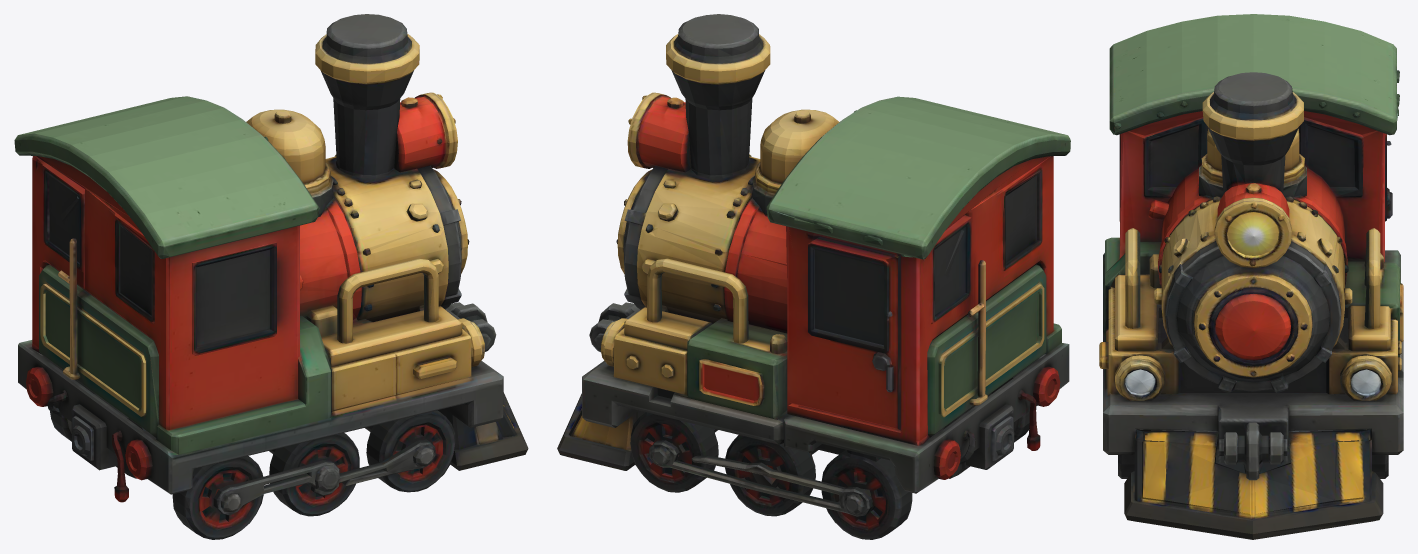
Rendered from train.glb.
The picture shows the model from 3 angles, left to right: view 1: azimuth 30°, elevation 25°; view 2: azimuth 150°, elevation 25°; view 3: azimuth 270°, elevation 25°; orthographic projection. The views are drawn at different scales.
Visible parts, largest first — view 1: tripo_node_435d09d5-98f2-4fdf-88cc-68d79c8366c2; view 2: tripo_node_435d09d5-98f2-4fdf-88cc-68d79c8366c2; view 3: tripo_node_435d09d5-98f2-4fdf-88cc-68d79c8366c2.
Boxes of the visible parts, x1,y1,x2,y2 form: tripo_node_435d09d5-98f2-4fdf-88cc-68d79c8366c2: [14, 14, 528, 539]; tripo_node_435d09d5-98f2-4fdf-88cc-68d79c8366c2: [557, 14, 1070, 539]; tripo_node_435d09d5-98f2-4fdf-88cc-68d79c8366c2: [1099, 14, 1403, 539].
Bounding box in the file's own units: 4.35 × 4.01 × 2.78.
1 material, 1 textured.
